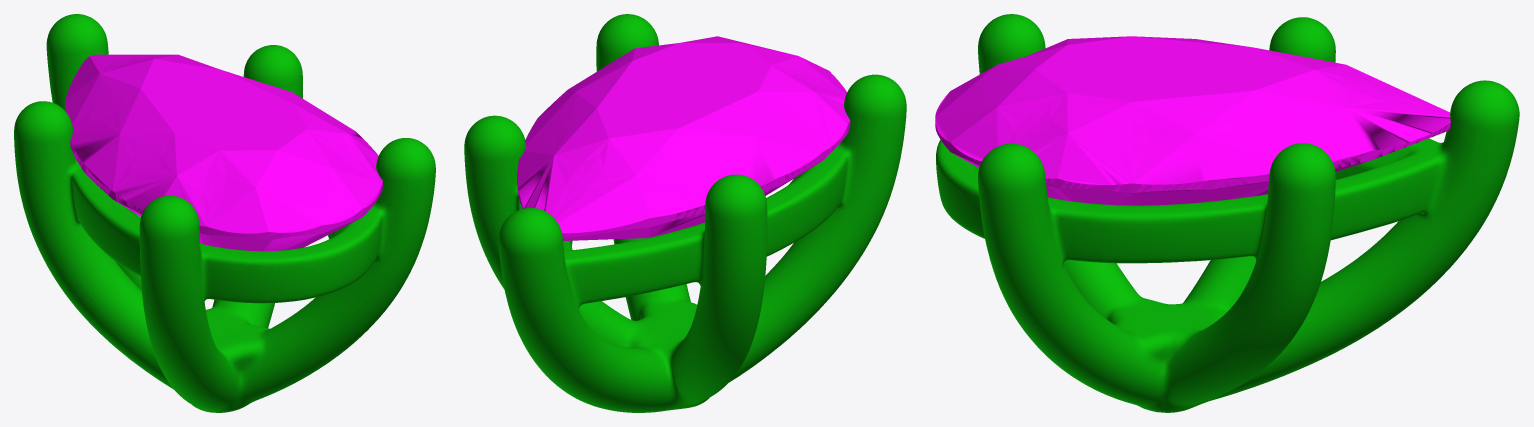
The picture shows the model from 3 angles, left to right: view 1: azimuth 30°, elevation 25°; view 2: azimuth 150°, elevation 25°; view 3: azimuth 270°, elevation 25°; orthographic projection. The views are drawn at different scales.
Visible parts, largest first — view 1: Metal01, Diamond_Pear; view 2: Metal01, Diamond_Pear; view 3: Metal01, Diamond_Pear.
Boxes of the visible parts, x1=… form: Metal01: x1=14, y1=14, x2=435, y2=412; Diamond_Pear: x1=65, y1=54, x2=382, y2=251; Metal01: x1=464, y1=14, x2=906, y2=412; Diamond_Pear: x1=517, y1=36, x2=850, y2=240; Metal01: x1=936, y1=14, x2=1519, y2=412; Diamond_Pear: x1=935, y1=36, x2=1450, y2=205.
Size of the model in its own units: 5.86 by 5.76 by 9.16.
